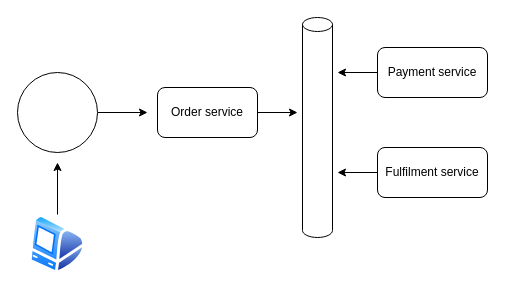
Some shapes in this 505 by 292 pixel diagram are drawn without their labels. Each missing label, with the box of its shape:
Apollo Server: (16, 72, 98, 152)
Event bus: (302, 16, 332, 238)
